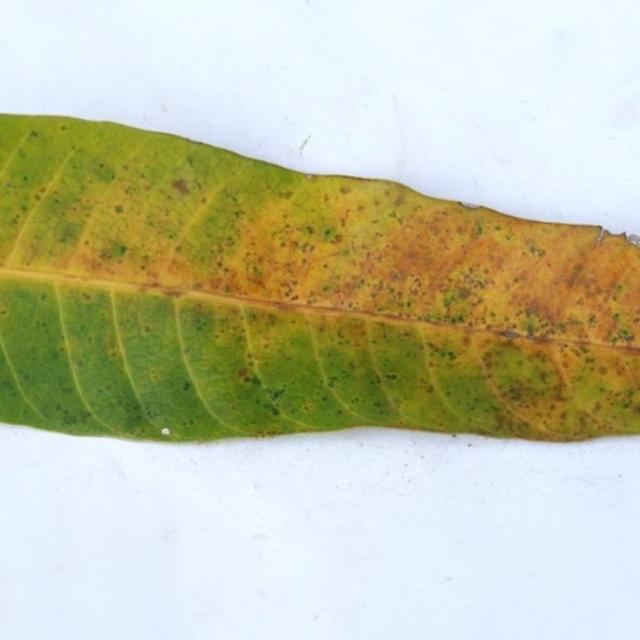Mango: (0, 115, 639, 441)
Powdery_Mildew: (249, 206, 362, 295), (478, 339, 580, 428), (94, 163, 186, 245), (445, 233, 520, 292), (504, 407, 623, 441), (511, 273, 575, 329), (121, 388, 198, 432), (294, 168, 431, 191), (152, 247, 211, 290), (545, 343, 575, 397), (439, 283, 484, 317), (487, 324, 544, 342), (598, 227, 636, 253), (520, 310, 549, 336), (112, 240, 139, 267), (426, 341, 458, 363), (97, 241, 128, 261), (90, 161, 116, 183), (566, 262, 587, 289), (242, 272, 269, 293), (56, 222, 80, 244), (403, 274, 424, 296), (609, 327, 634, 344), (171, 178, 191, 194), (322, 226, 341, 242), (506, 386, 525, 401), (453, 286, 473, 300), (249, 429, 280, 438), (33, 185, 49, 200), (475, 427, 498, 437), (527, 245, 545, 257), (524, 321, 538, 336), (262, 424, 283, 434), (243, 373, 259, 386), (270, 387, 285, 400), (601, 228, 618, 239), (459, 201, 482, 209), (164, 288, 182, 298), (449, 312, 465, 323), (595, 227, 606, 243), (339, 184, 353, 195), (503, 330, 520, 339), (79, 409, 91, 421), (237, 367, 249, 379), (622, 397, 635, 408), (617, 229, 630, 240), (474, 220, 484, 234), (268, 404, 280, 415), (280, 189, 293, 199), (304, 225, 315, 235), (273, 302, 286, 310), (113, 204, 123, 213), (614, 283, 624, 292), (191, 139, 203, 146), (612, 310, 620, 320), (386, 373, 397, 380), (183, 381, 191, 390), (34, 193, 42, 201), (30, 130, 39, 137), (312, 614, 319, 623), (291, 294, 299, 301), (40, 293, 47, 300), (74, 362, 81, 369), (306, 174, 314, 180), (60, 125, 67, 131), (636, 310, 640, 320), (184, 138, 191, 143), (1, 309, 6, 315), (451, 433, 457, 438), (467, 442, 473, 447), (476, 417, 482, 422)
